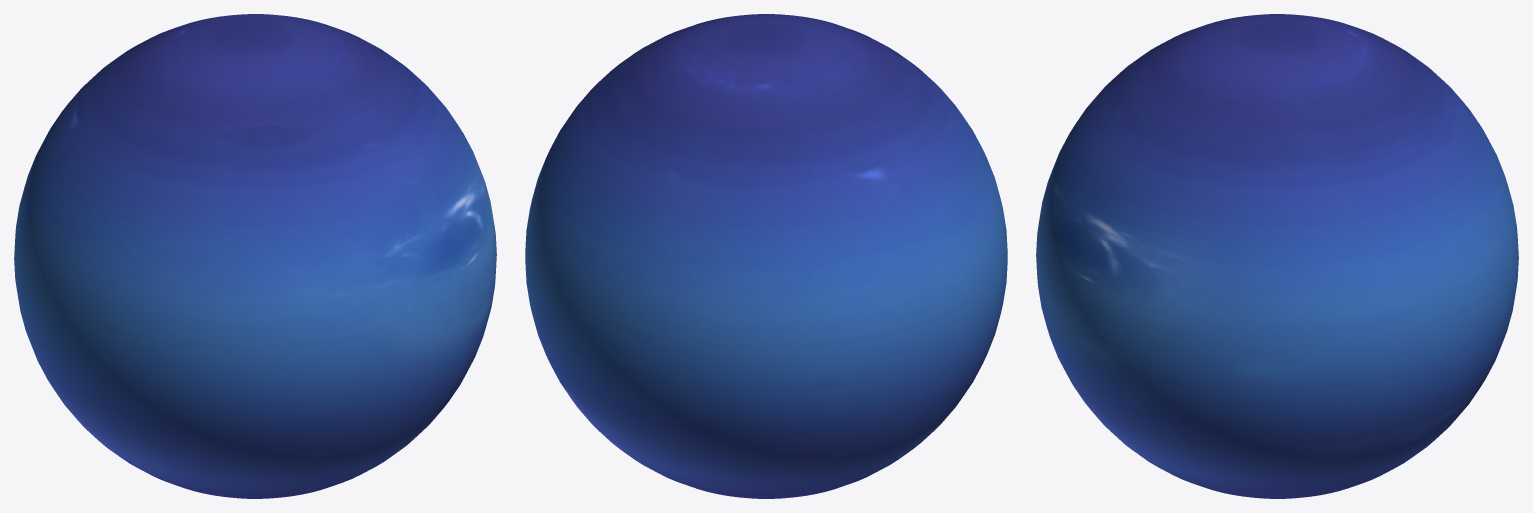
The model's file is neptune.glb.
3 renders of one model, left to right at view 1: azimuth 30°, elevation 25°; view 2: azimuth 150°, elevation 25°; view 3: azimuth 270°, elevation 25°, orthographic.
Parts seen in each view (by area): view 1: Sphere.002; view 2: Sphere.002; view 3: Sphere.002.
Part boxes in pixels (<box>): Sphere.002: <box>14,14,496,498</box>; Sphere.002: <box>525,14,1007,498</box>; Sphere.002: <box>1036,14,1518,498</box>.
Bounding box in the file's own units: 2.17 × 2.19 × 2.17.
Materials: 1 (1 with a texture image).
